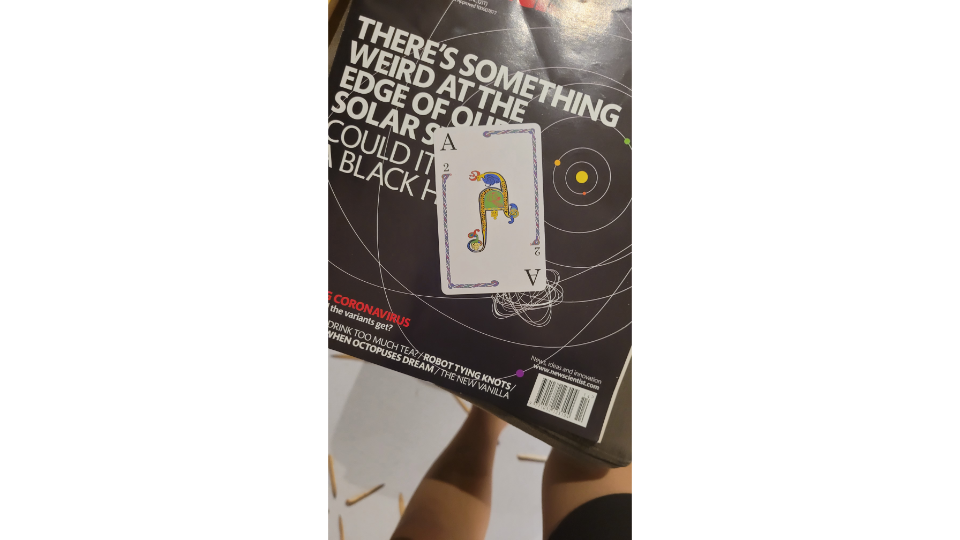A: (428, 121, 552, 296)
